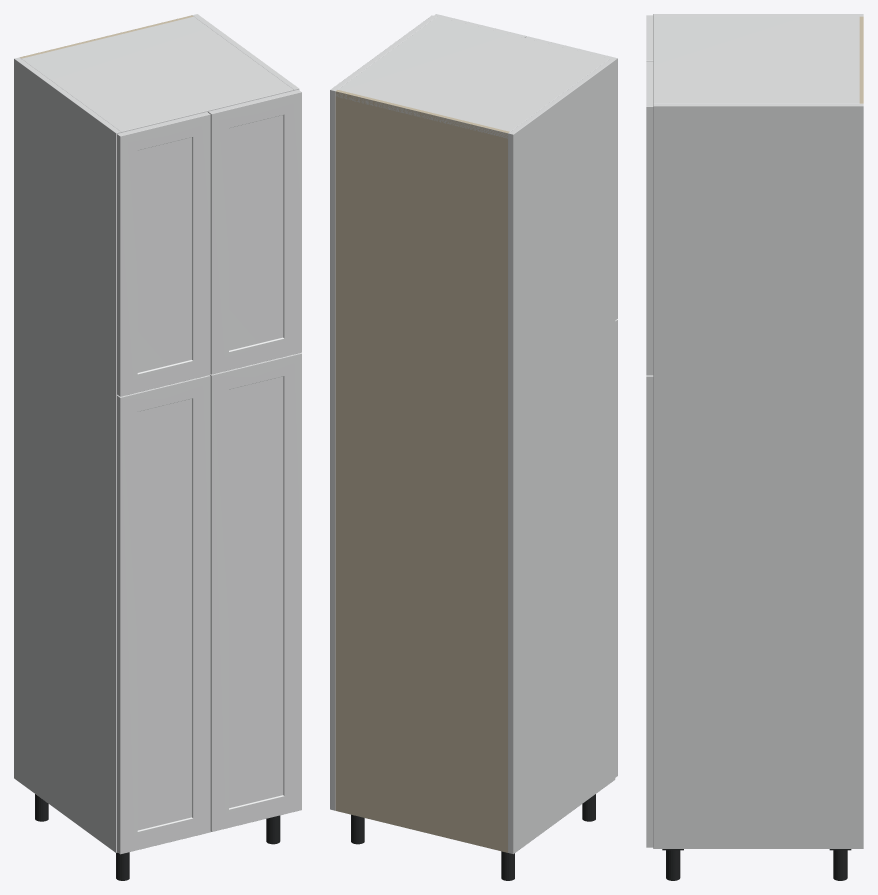
Rendered from PLY-WSS-PC2490.glb.
3 renders of one model, left to right at view 1: azimuth 30°, elevation 25°; view 2: azimuth 150°, elevation 25°; view 3: azimuth 270°, elevation 25°, orthographic. The views are drawn at different scales.
Parts seen in each view (by area): view 1: Carcass left, Shaker door, Shaker door.001, Shaker door.002, Shaker door.003, Carcass top, Carcass right; view 2: Carcass back, Carcass left, Carcass top, Carcass right, Shaker door, Shaker door.002; view 3: Carcass right, Carcass top, Shaker door.001, Shaker door.003, Carcass left, Adjustable foot.002, Adjustable foot.003.
Boxes of the visible parts, box(x1,y1,x2,y2) form: Carcass left: box(14, 57, 121, 852); Shaker door: box(117, 375, 210, 854); Shaker door.001: box(210, 353, 301, 831); Shaker door.002: box(117, 112, 210, 396); Shaker door.003: box(208, 89, 301, 374); Carcass top: box(21, 16, 293, 132); Carcass right: box(192, 14, 299, 90); Carcass back: box(335, 90, 509, 852); Carcass left: box(508, 59, 615, 854); Carcass top: box(336, 16, 609, 138); Carcass right: box(330, 15, 436, 810); Shaker door: box(615, 319, 617, 777); Shaker door.002: box(525, 36, 617, 319); Carcass right: box(653, 103, 863, 848); Carcass top: box(653, 16, 859, 103); Shaker door.001: box(646, 375, 653, 847); Shaker door.003: box(646, 61, 653, 375); Carcass left: box(653, 14, 863, 16); Adjustable foot.002: box(833, 850, 847, 880); Adjustable foot.003: box(666, 850, 680, 880).
Size of the model in its own units: 0.6096 by 2.4 by 0.6064.
